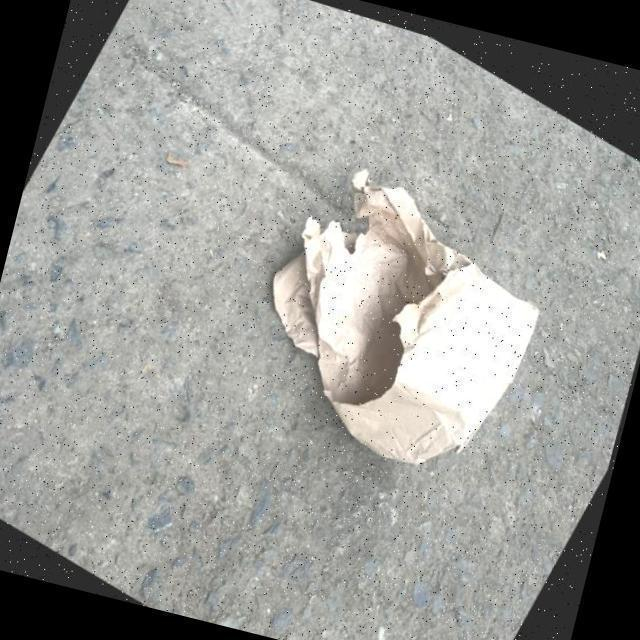Paper_Bag: (209, 132, 582, 505)
